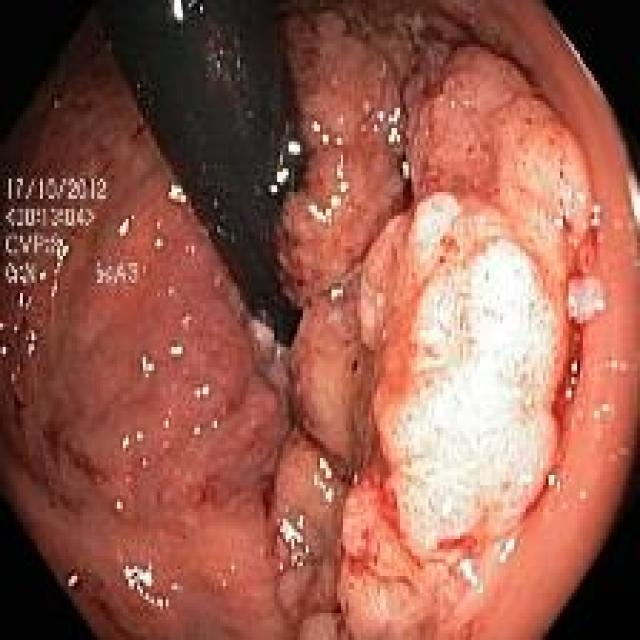Polyps: (338, 46, 608, 640), (271, 9, 409, 640)
